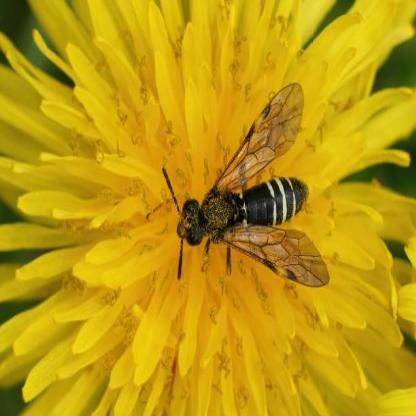sawfly: (159, 76, 334, 299)
